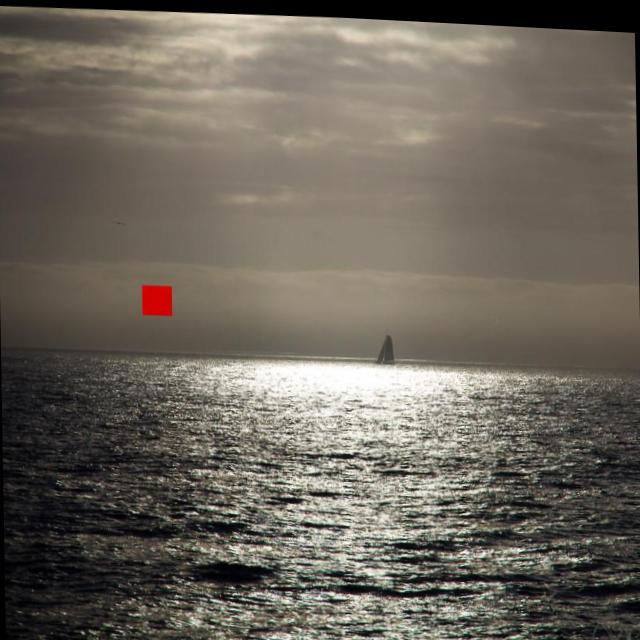RedSquare: (139, 275, 176, 321)
